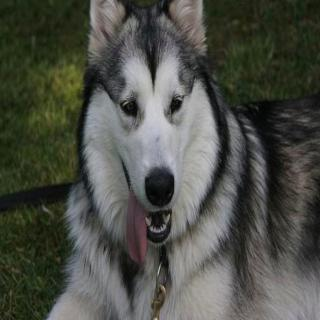dog: (74, 0, 219, 263)
nose: (136, 166, 183, 212)
